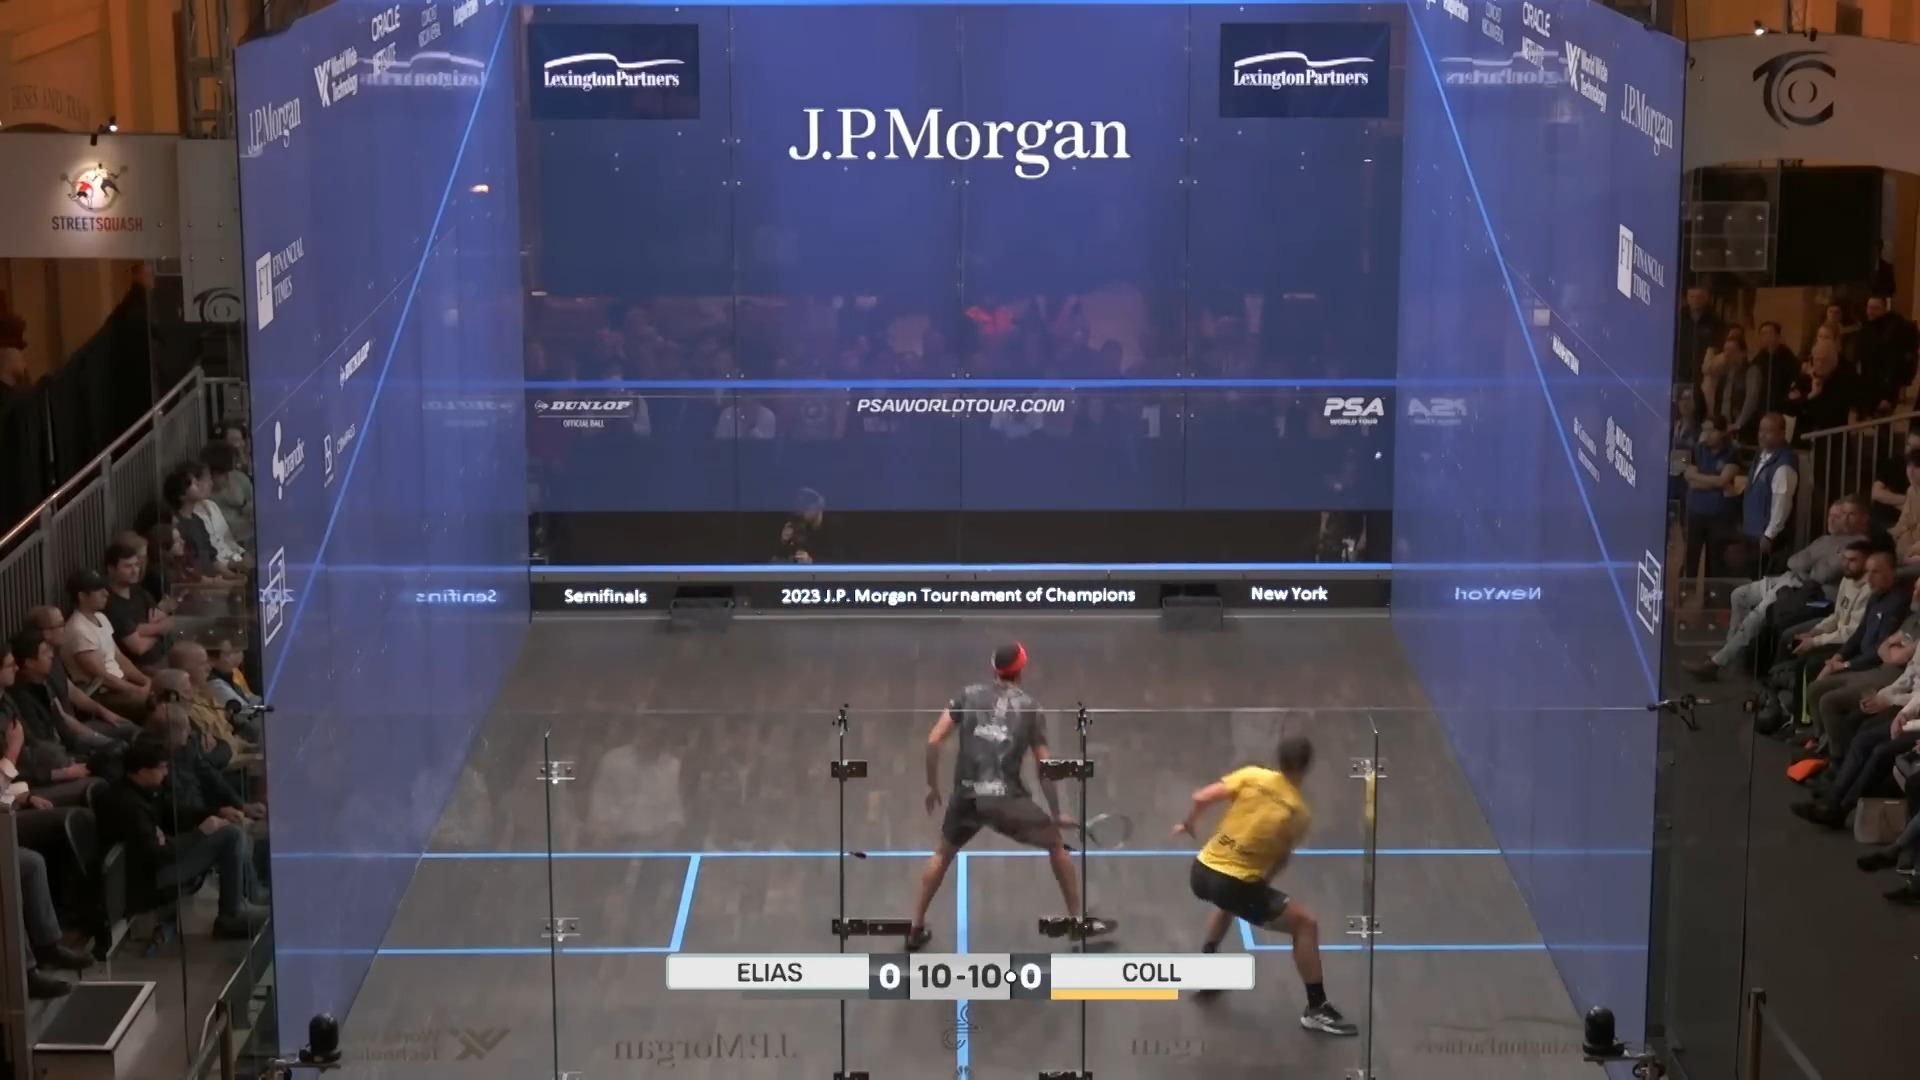Racket: (1054, 808, 1145, 858)
